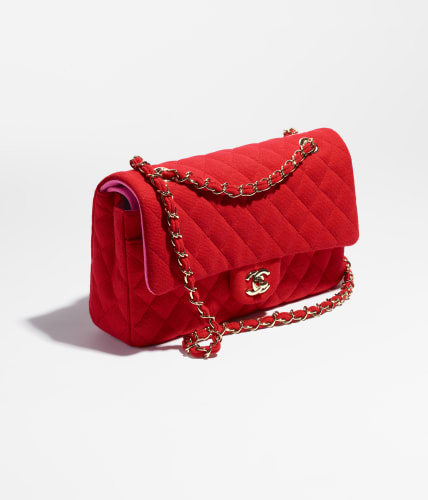channel: (95, 109, 372, 360), (291, 174, 352, 286), (150, 156, 294, 203), (245, 263, 277, 295)
